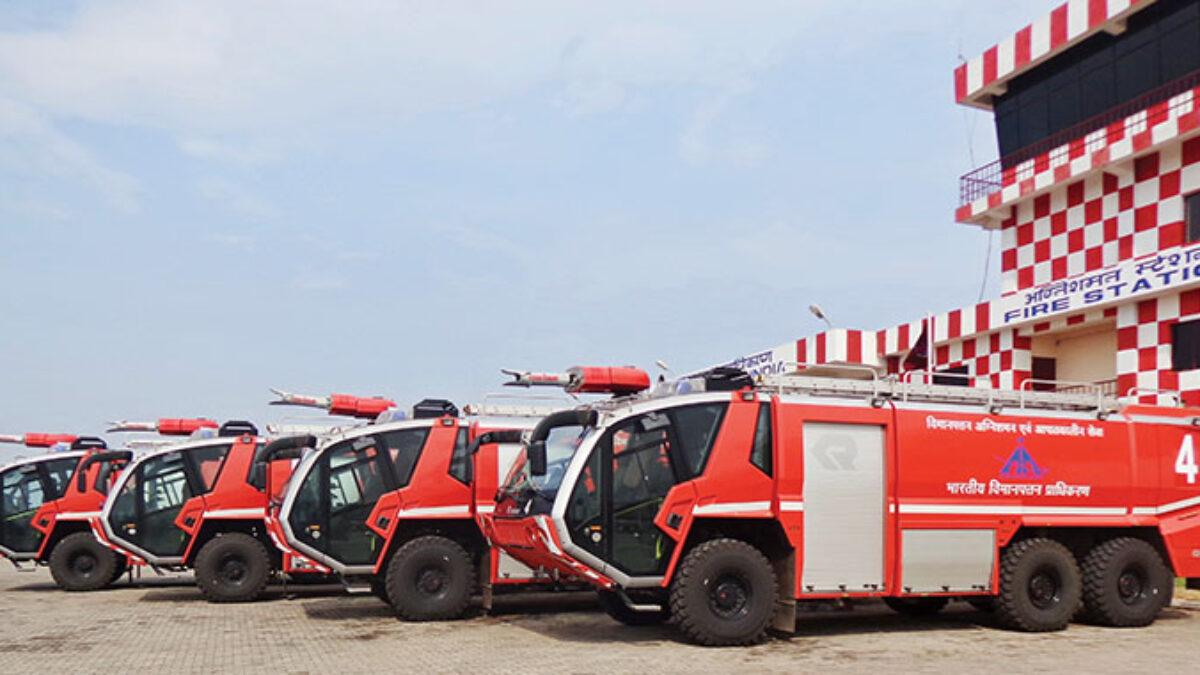Fire-engine: (505, 377, 1200, 649), (270, 401, 496, 607), (103, 406, 259, 602), (1, 434, 110, 598)
